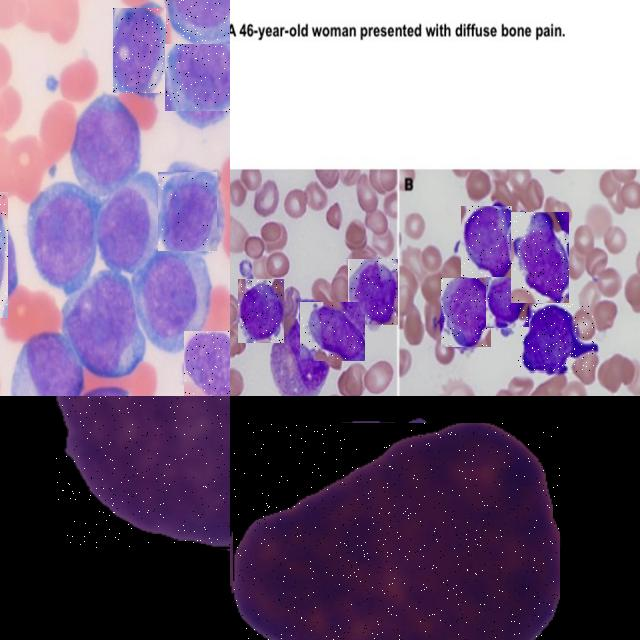ALL Negative Cells: (57, 396, 230, 549)
ALL Positive Cell: (233, 423, 560, 640), (511, 212, 569, 303), (518, 304, 594, 372), (113, 8, 170, 93), (158, 172, 217, 252), (165, 44, 230, 112), (300, 302, 365, 361), (461, 206, 512, 277), (441, 278, 491, 347), (348, 259, 398, 325), (183, 330, 230, 396), (238, 279, 284, 343), (166, 0, 230, 44), (486, 276, 529, 328)
